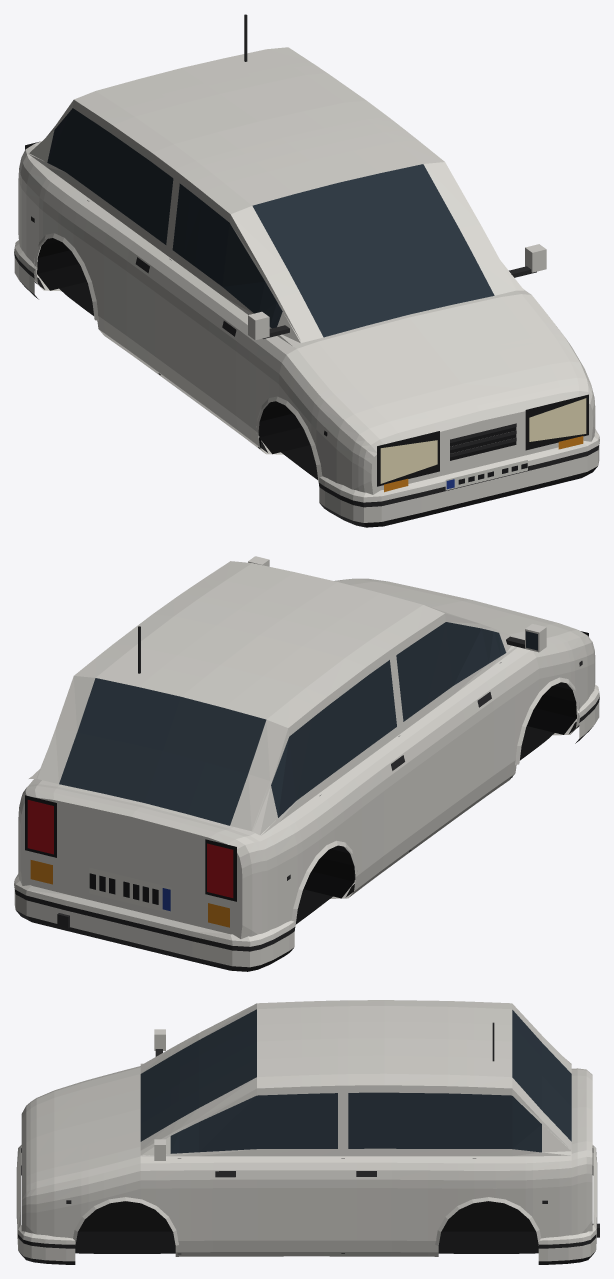
The model's file is peugeot-206.glb.
3 views of the same model, one above another, from view 1: azimuth 30°, elevation 25°; view 2: azimuth 150°, elevation 25°; view 3: azimuth 270°, elevation 25° (orthographic). The views are drawn at different scales.
Parts seen in each view (by area): view 1: LOD0, door_FR, door_RR; view 2: LOD0, door_FR, door_RR; view 3: LOD0, door_FL, door_RL.
Part boxes in pixels (x1,y1,x2,y2): LOD0: (14, 14, 599, 527); door_FR: (157, 175, 277, 444); door_RR: (73, 115, 174, 370); LOD0: (14, 556, 599, 971); door_FR: (395, 613, 514, 847); door_RR: (311, 651, 412, 890); LOD0: (16, 1000, 599, 1264); door_FL: (179, 1085, 341, 1252); door_RL: (345, 1085, 474, 1252).
Size of what is drawn, in the model's own units: 1.84 by 1.58 by 3.94.
